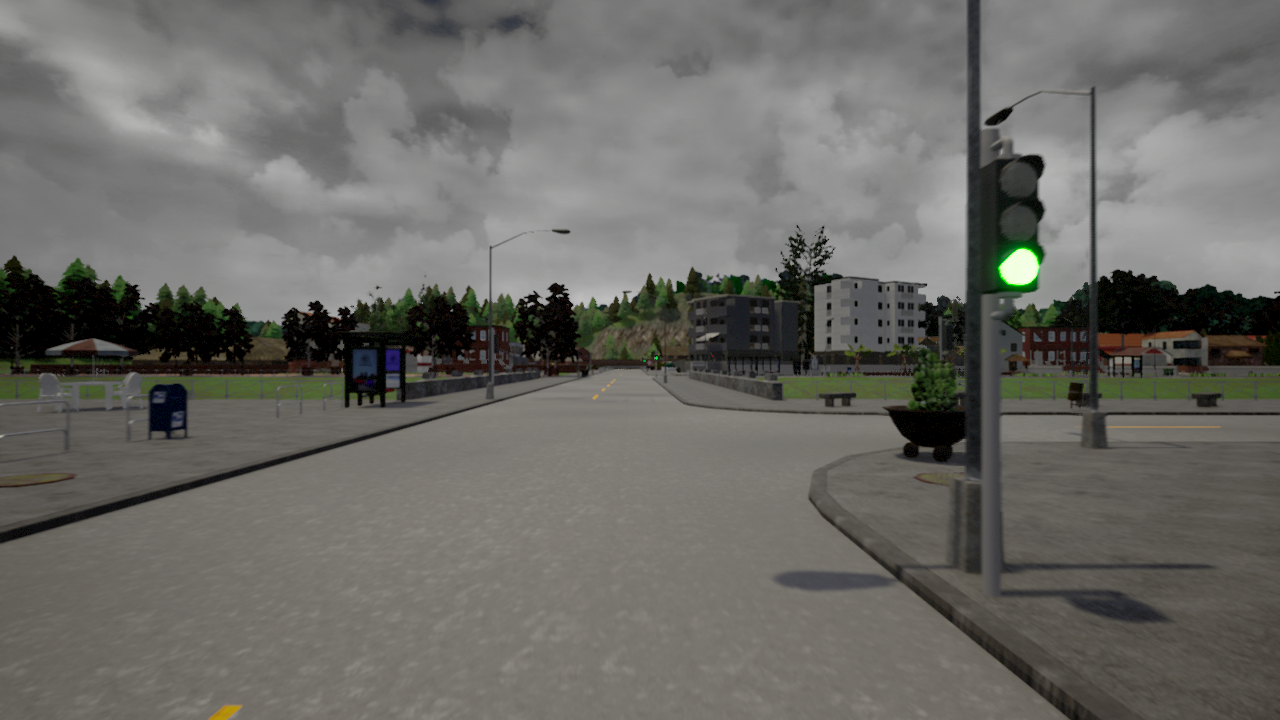green: (986, 154, 1042, 296)
